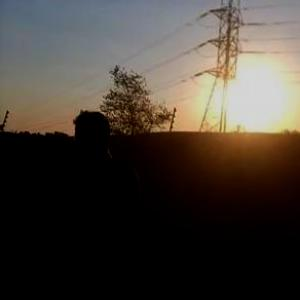follow: (49, 108, 144, 299)
